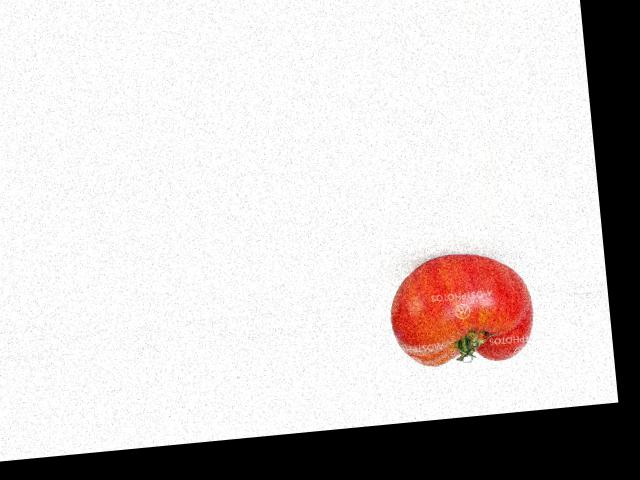tomato: (385, 248, 536, 370)
